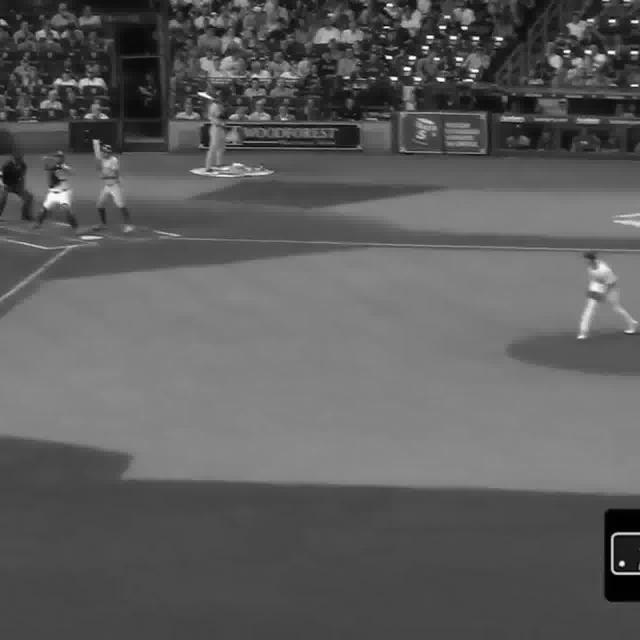base: (80, 236, 100, 240)
baseball_glove: (589, 289, 609, 302), (47, 165, 63, 173)
bat: (197, 88, 231, 109), (92, 139, 104, 176)
shoe: (88, 220, 109, 233), (627, 326, 640, 334), (579, 331, 589, 341), (122, 226, 133, 233)
